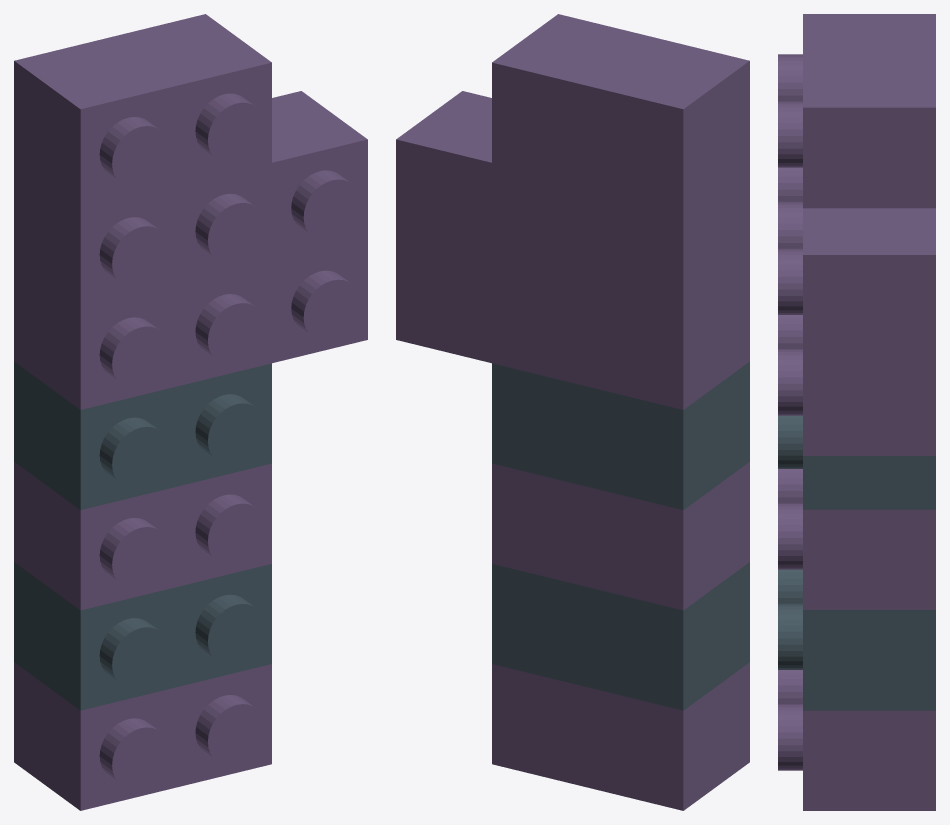
The model's file is current.glb.
The picture shows the model from 3 angles, left to right: view 1: azimuth 30°, elevation 25°; view 2: azimuth 150°, elevation 25°; view 3: azimuth 270°, elevation 25°; orthographic projection.
Parts seen in each view (by area): view 1: world; view 2: world; view 3: world.
Part boxes in pixels (x1,y1,x2,y2): world: (14,14,367,810); world: (396,14,749,810); world: (778,14,935,810).
Bounding box in the file's own units: 24 × 56 × 11.4.
